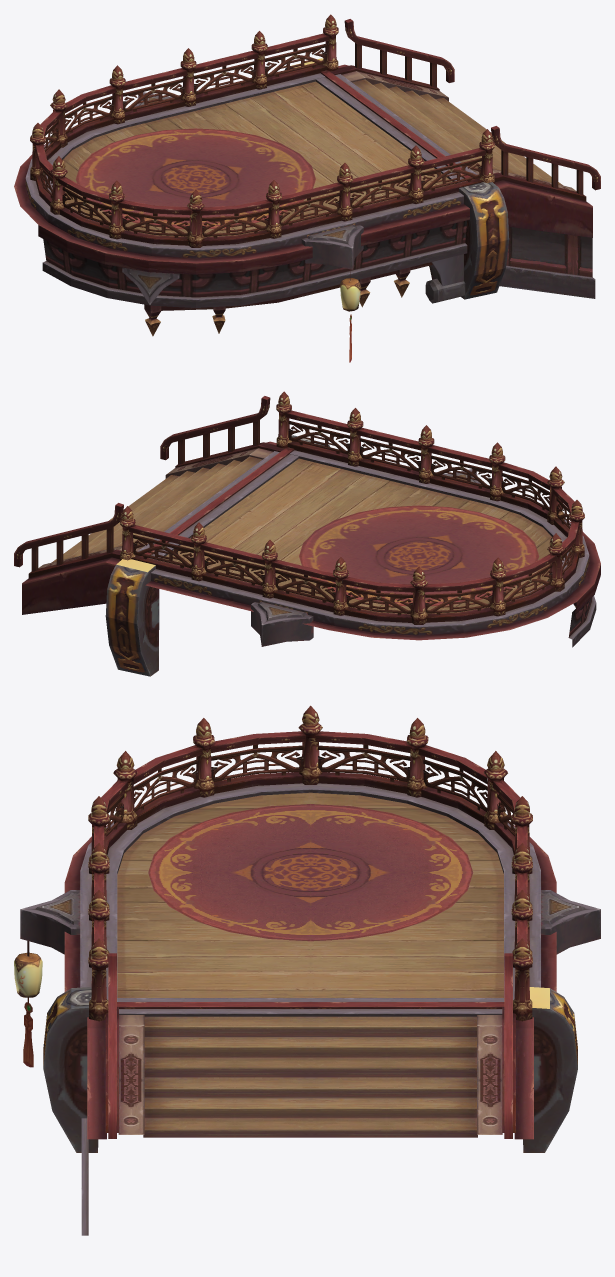
File: cj_luoyang_guanjingtai01_55_54_1845out.fbx
The picture shows the model from 3 angles, top to bottom: view 1: azimuth 30°, elevation 25°; view 2: azimuth 150°, elevation 25°; view 3: azimuth 270°, elevation 25°; orthographic projection. The views are drawn at different scales.
Parts seen in each view (by area): view 1: 0001_cj_luoyang_guanjingtai01, 0000_cj_luoyang_guanjingtai01; view 2: 0001_cj_luoyang_guanjingtai01, 0000_cj_luoyang_guanjingtai01; view 3: 0001_cj_luoyang_guanjingtai01, 0000_cj_luoyang_guanjingtai01.
Boxes of the visible parts, <box> form: 0001_cj_luoyang_guanjingtai01: <box>14,14,600,310</box>; 0000_cj_luoyang_guanjingtai01: <box>75,58,562,362</box>; 0001_cj_luoyang_guanjingtai01: <box>14,391,600,647</box>; 0000_cj_luoyang_guanjingtai01: <box>52,435,576,676</box>; 0001_cj_luoyang_guanjingtai01: <box>64,705,556,1235</box>; 0000_cj_luoyang_guanjingtai01: <box>14,804,600,1152</box>.
Bounding box in the file's own units: 0.0887 × 0.0333 × 0.0683.
